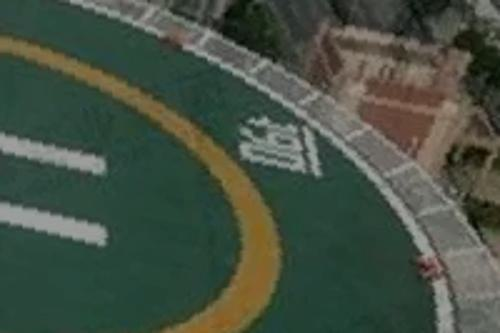Apron: (1, 30, 284, 333)
